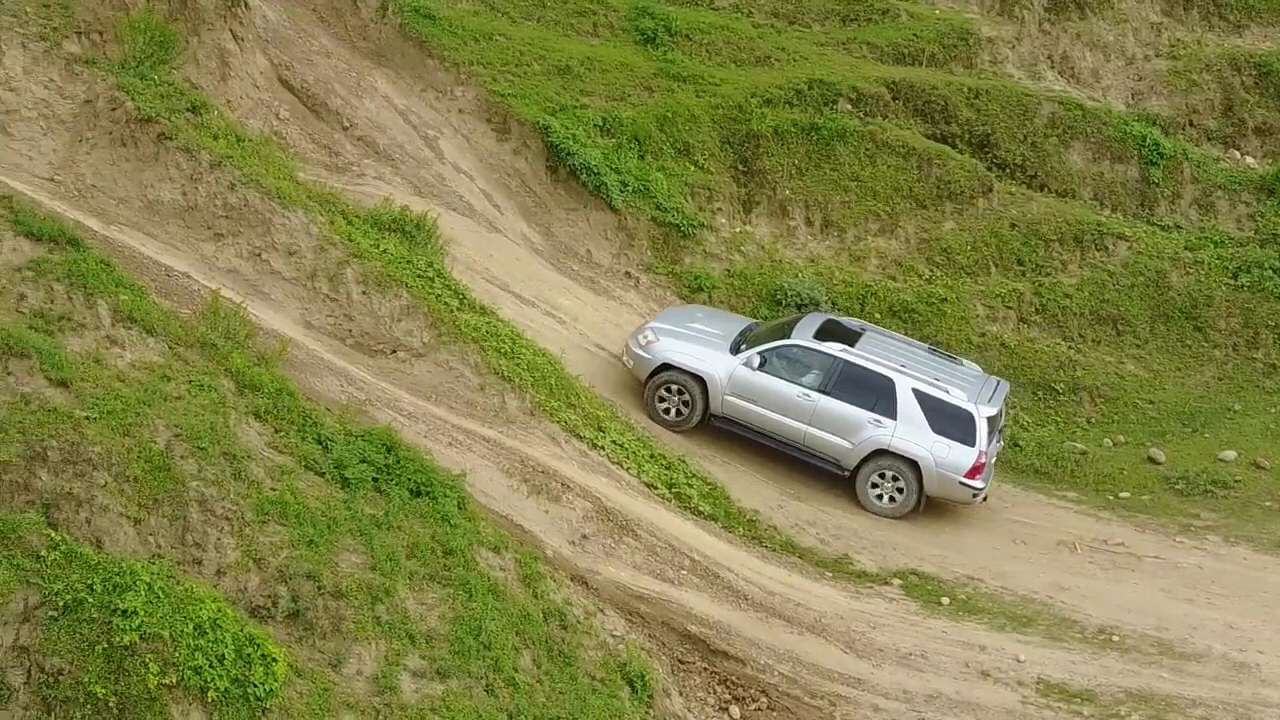araba: (619, 307, 1013, 514)
